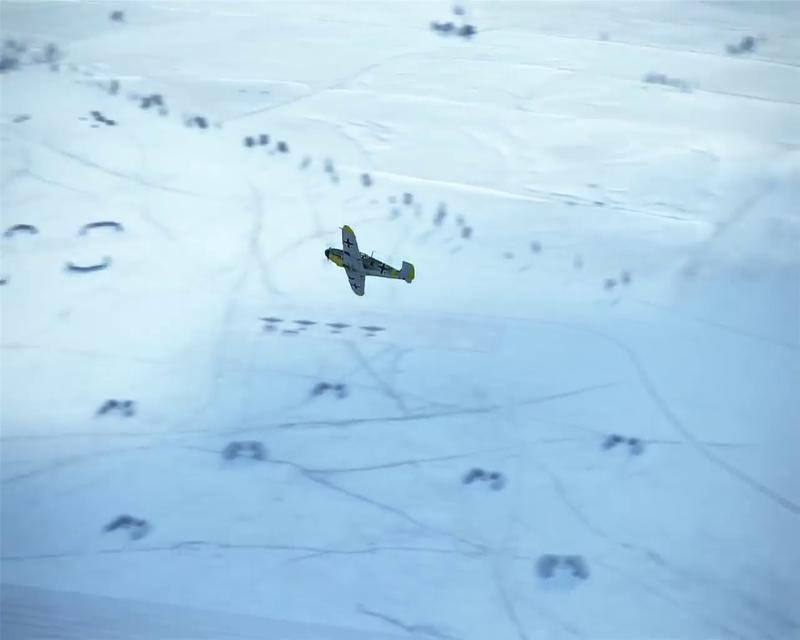UAV: (323, 223, 415, 297)
